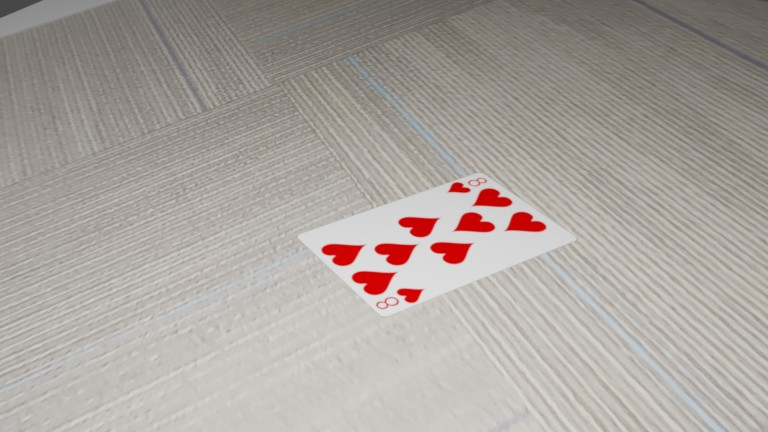8_of_hearts: (147, 112, 174, 126), (176, 69, 198, 80)
